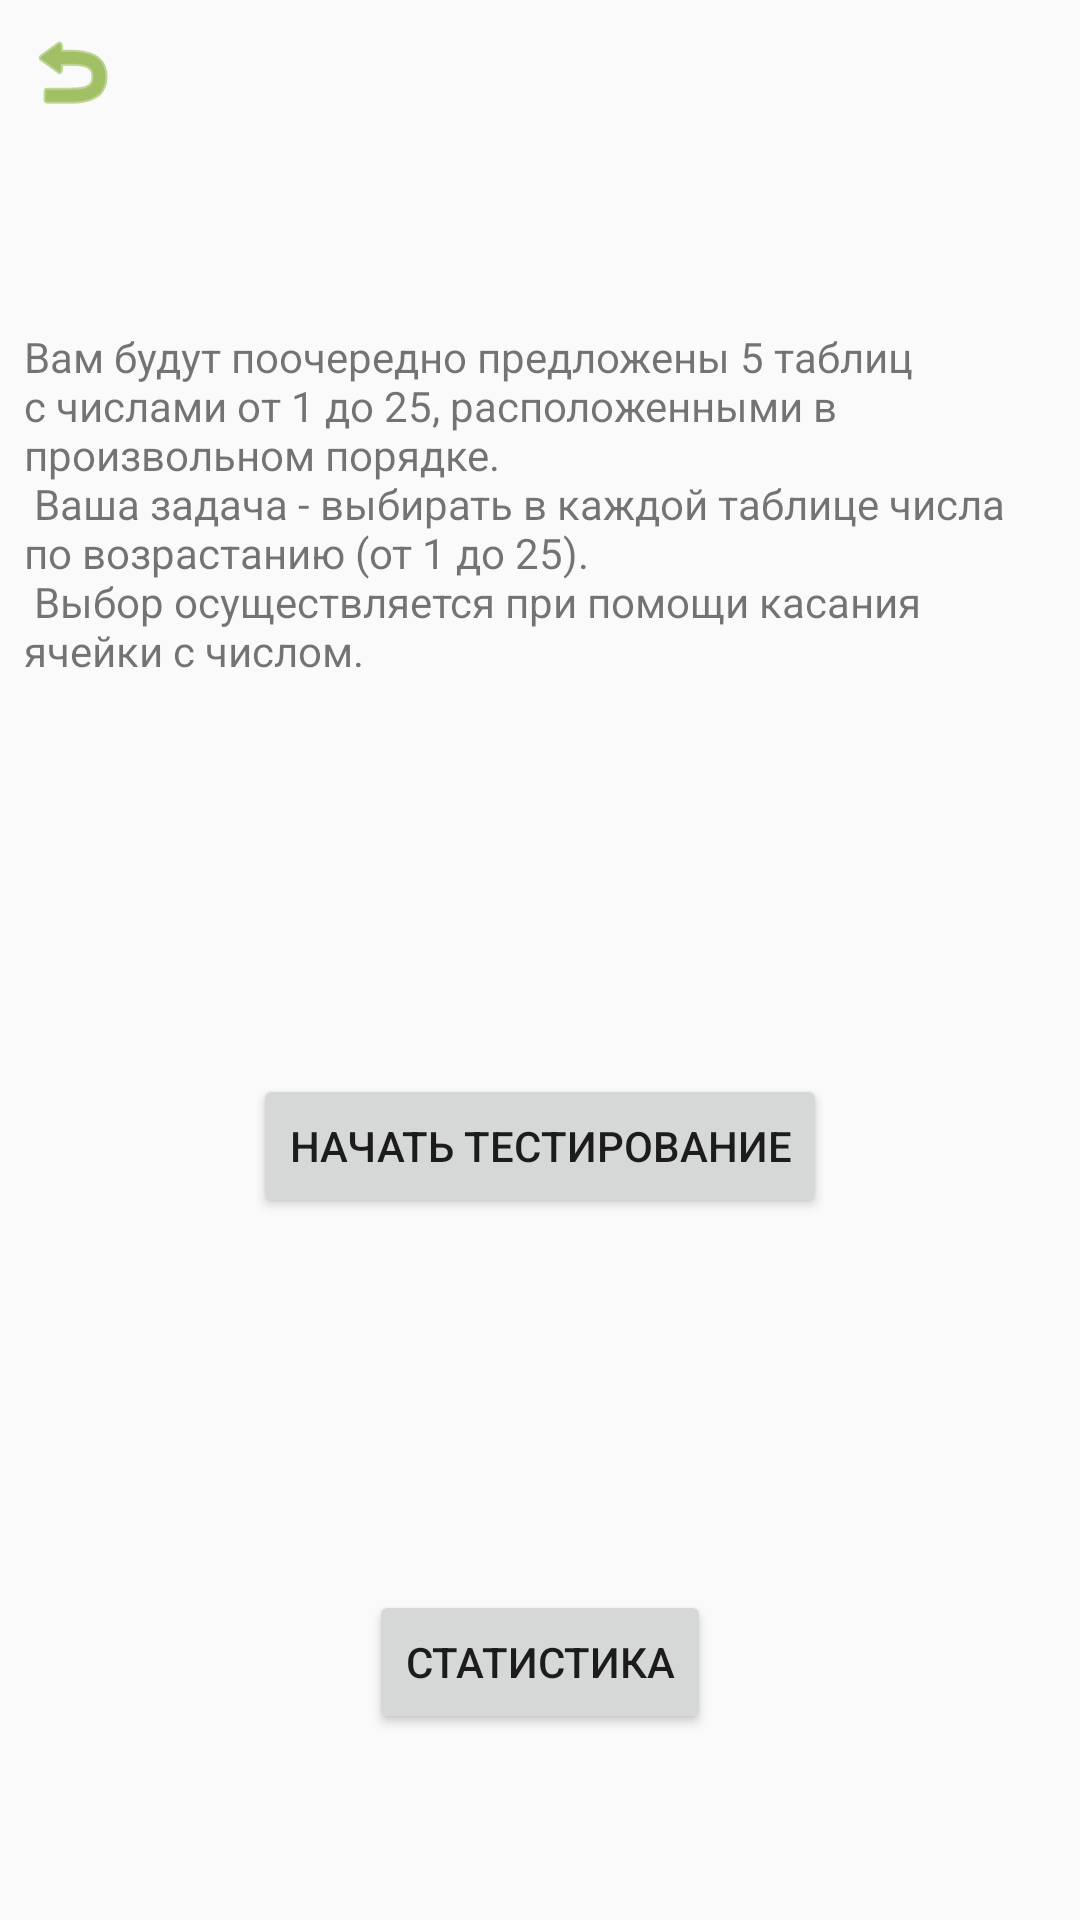

Named icons in this screenshot (1080px×1920px) and their centers, point (x, y):
revert: point (73, 72)
